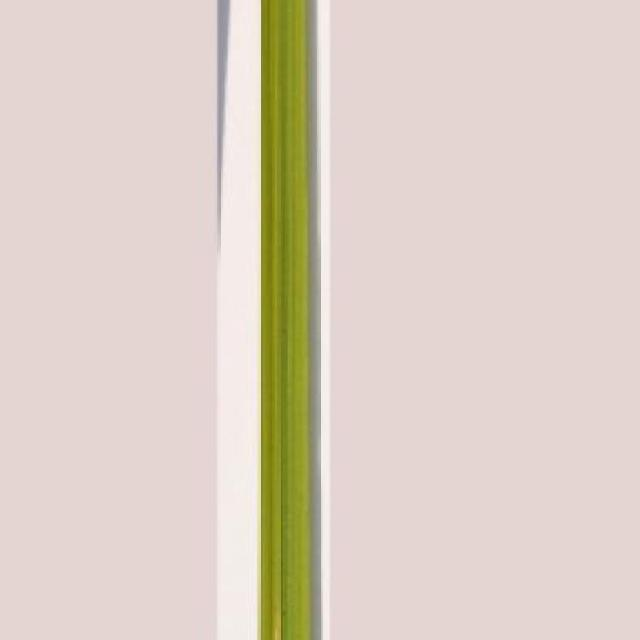Brown_Spot: (254, 0, 320, 640)
